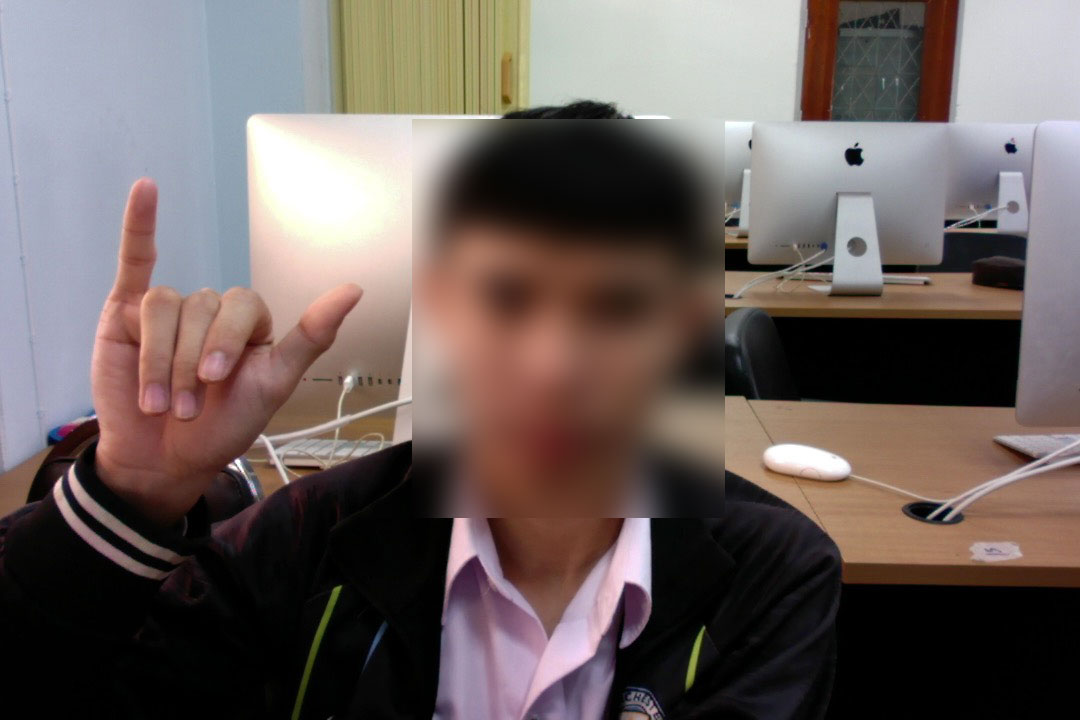yor: (85, 152, 370, 513)
